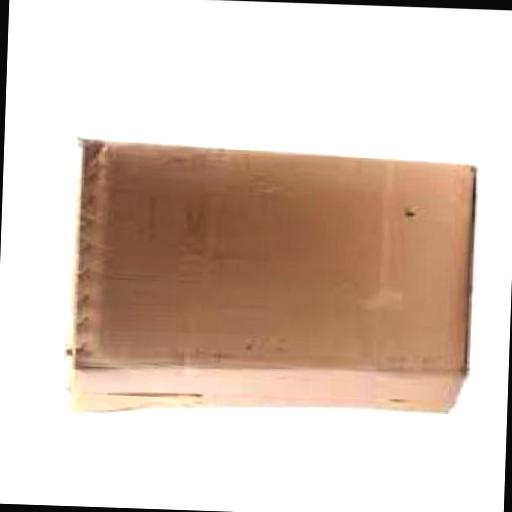cardboard: (64, 139, 474, 428)
